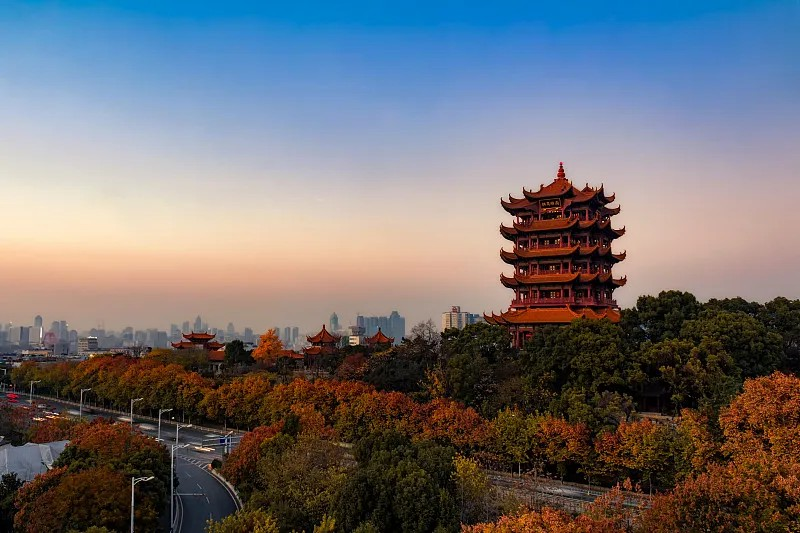Teng: (485, 162, 627, 328)
